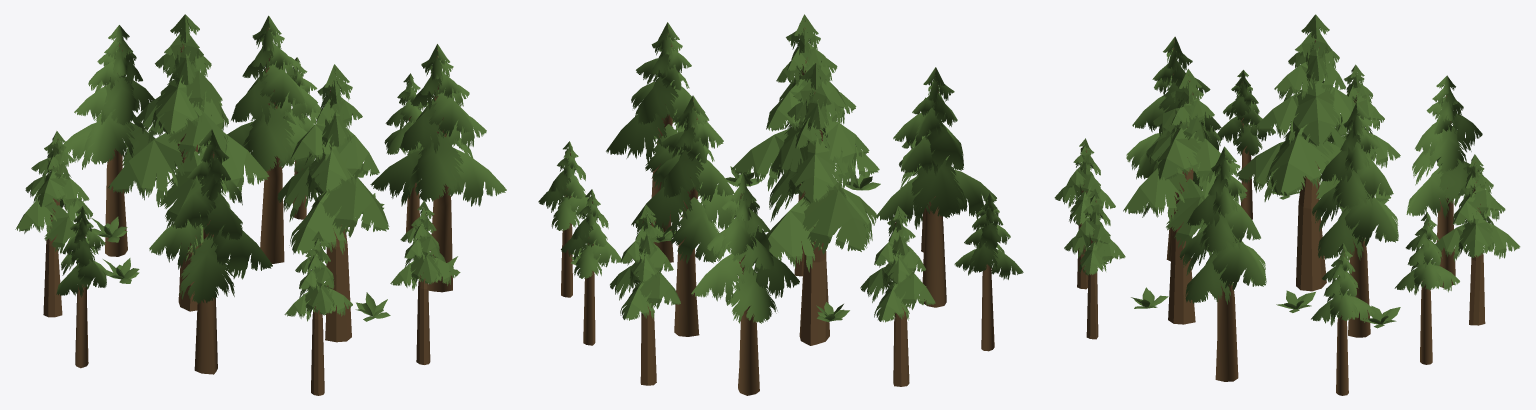
Rendered from Tree02.FBX.
3 renders of one model, left to right at view 1: azimuth 30°, elevation 25°; view 2: azimuth 150°, elevation 25°; view 3: azimuth 270°, elevation 25°, orthographic. The views are drawn at different scales.
Parts seen in each view (by area): view 1: Tree02; view 2: Tree02; view 3: Tree02.
Boxes of the visible parts, <box> form: Tree02: <box>15,14,506,395</box>; Tree02: <box>538,14,1023,395</box>; Tree02: <box>1054,14,1520,395</box>.
Size of the model in its own units: 38.46 by 23.93 by 37.76.
Materials: 1 (1 with a texture image).
